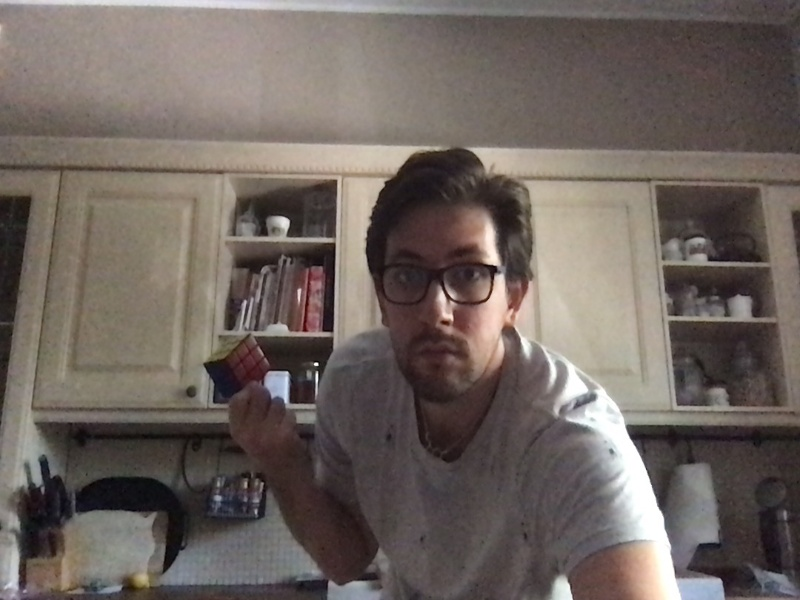rubik: (204, 333, 271, 398)
